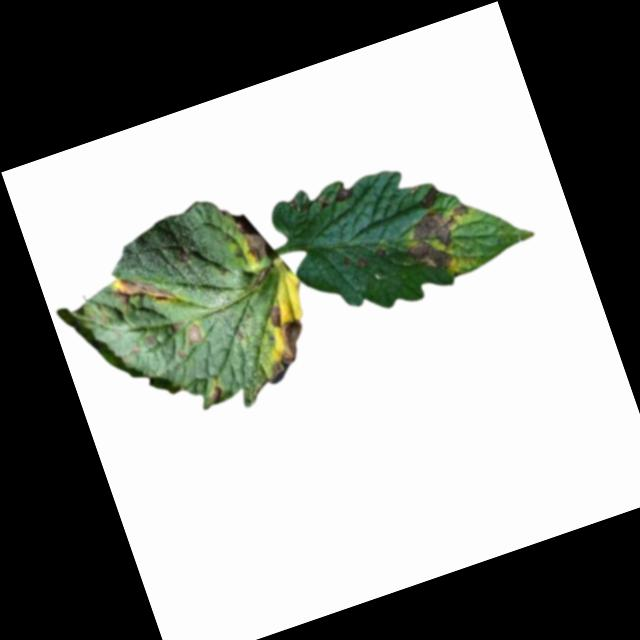Early_blight: (397, 199, 486, 280), (244, 297, 319, 386), (105, 258, 181, 320), (233, 203, 278, 269), (182, 320, 205, 348), (329, 182, 356, 204), (204, 383, 224, 406), (373, 244, 388, 258), (358, 252, 370, 265)
